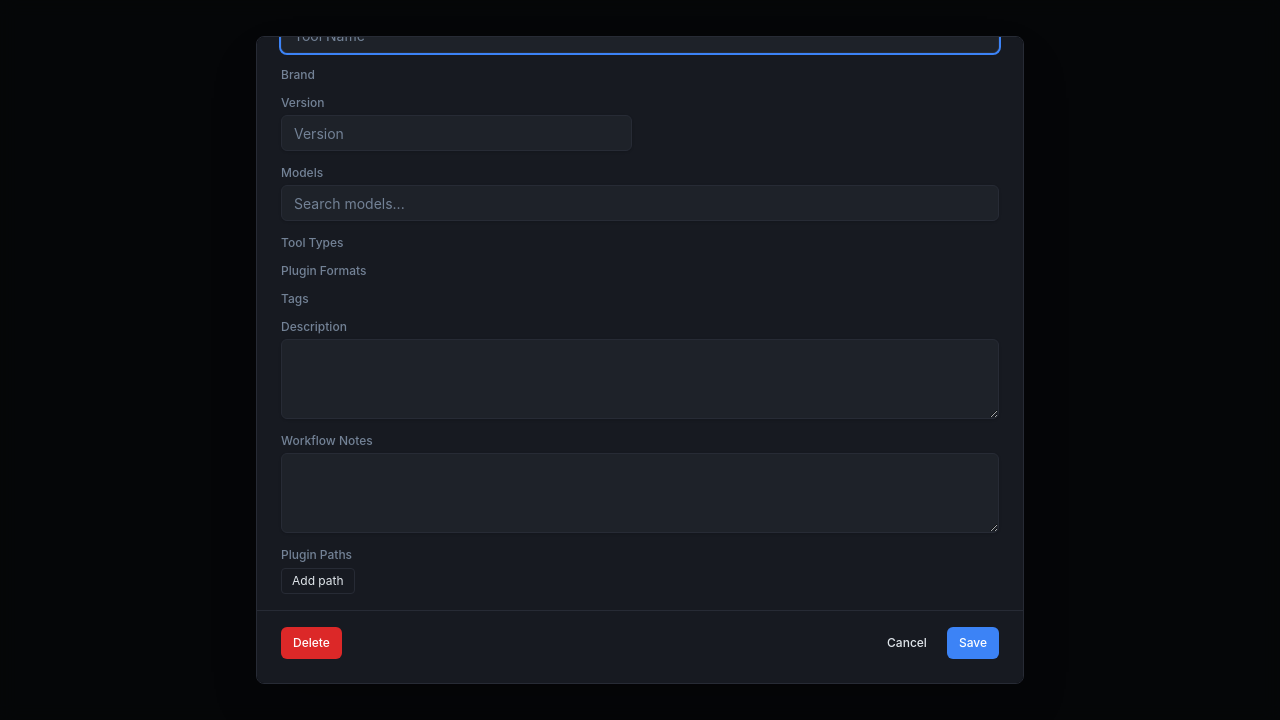
Test: ToolModal — create mode › shows error message when create fails
The width and height of the screenshot is (1280, 720).
(page scrolled)
Click the button "Save" at (973,643), box [947, 627, 999, 659]
(page scrolled)
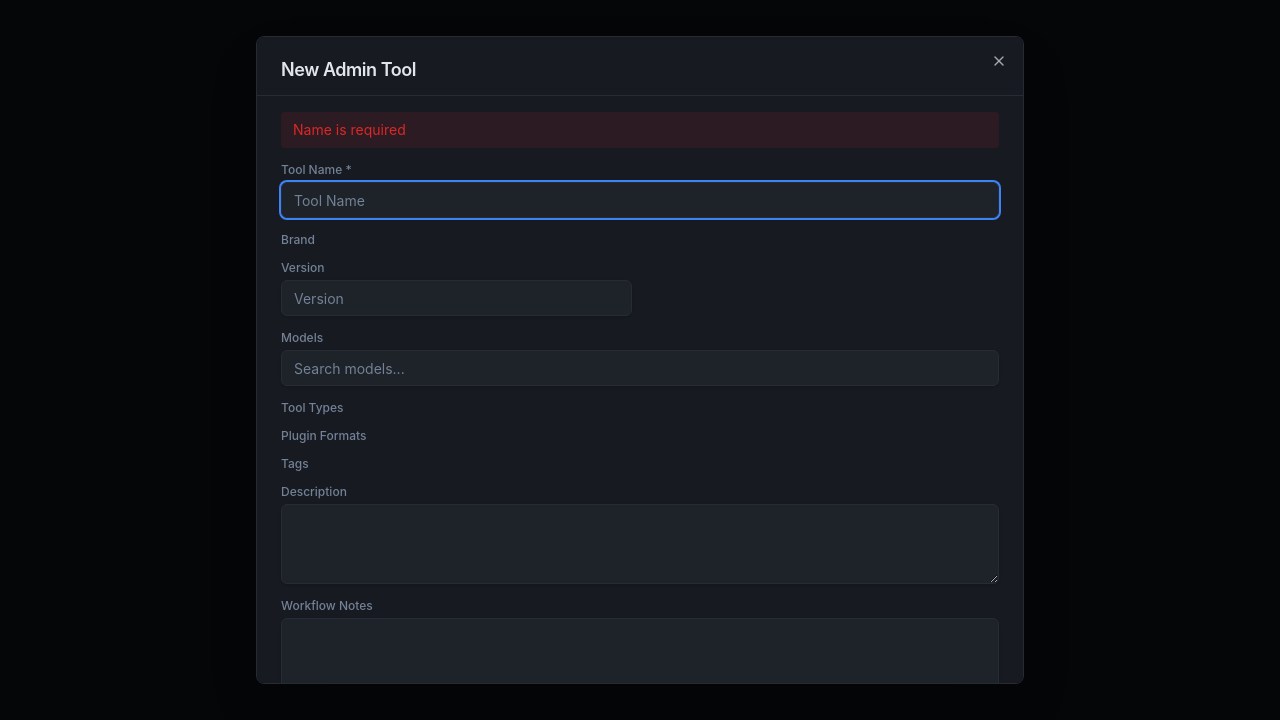
Expected: the text "Name is required" is shown, [281, 112, 999, 148]
